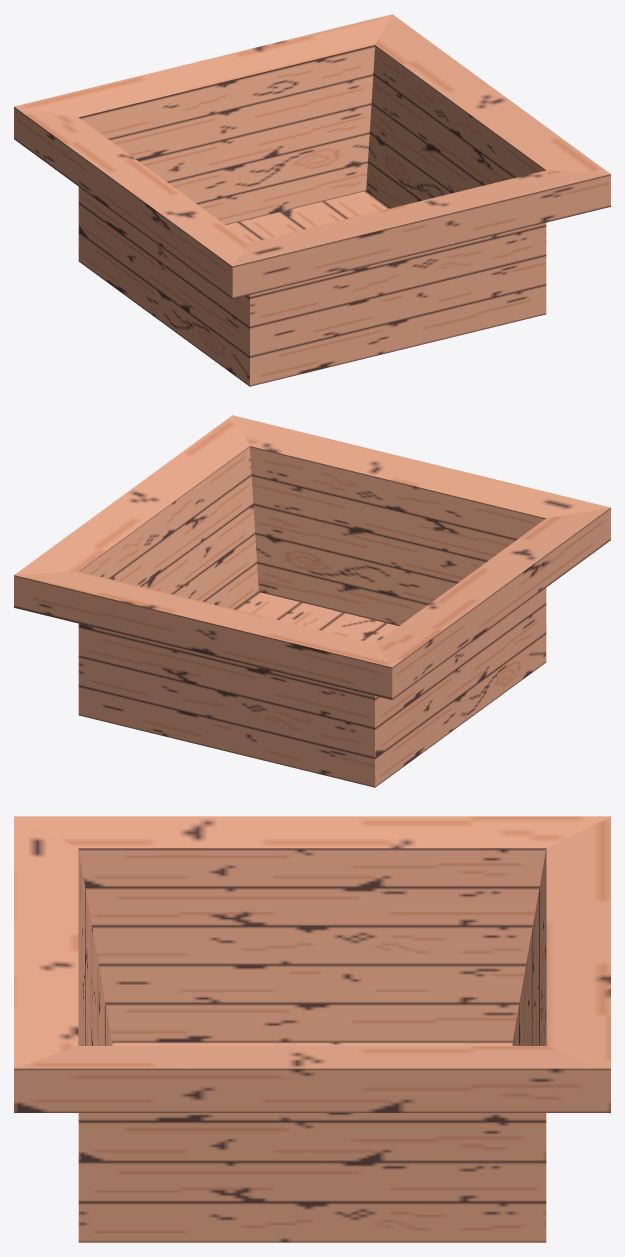
The model's file is Caja Venta.fbx.
3 views of the same model, one above another, from view 1: azimuth 30°, elevation 25°; view 2: azimuth 150°, elevation 25°; view 3: azimuth 270°, elevation 25° (orthographic). The views are drawn at different scales.
Visible parts, largest first — view 1: Caja; view 2: Caja; view 3: Caja.
Boxes of the visible parts, bbox=[...] form: Caja: bbox=[14, 14, 610, 386]; Caja: bbox=[14, 415, 610, 787]; Caja: bbox=[14, 816, 610, 1242].
Size of the model in its own units: 766 by 766 by 285.
Materials: 1 (1 with a texture image).
